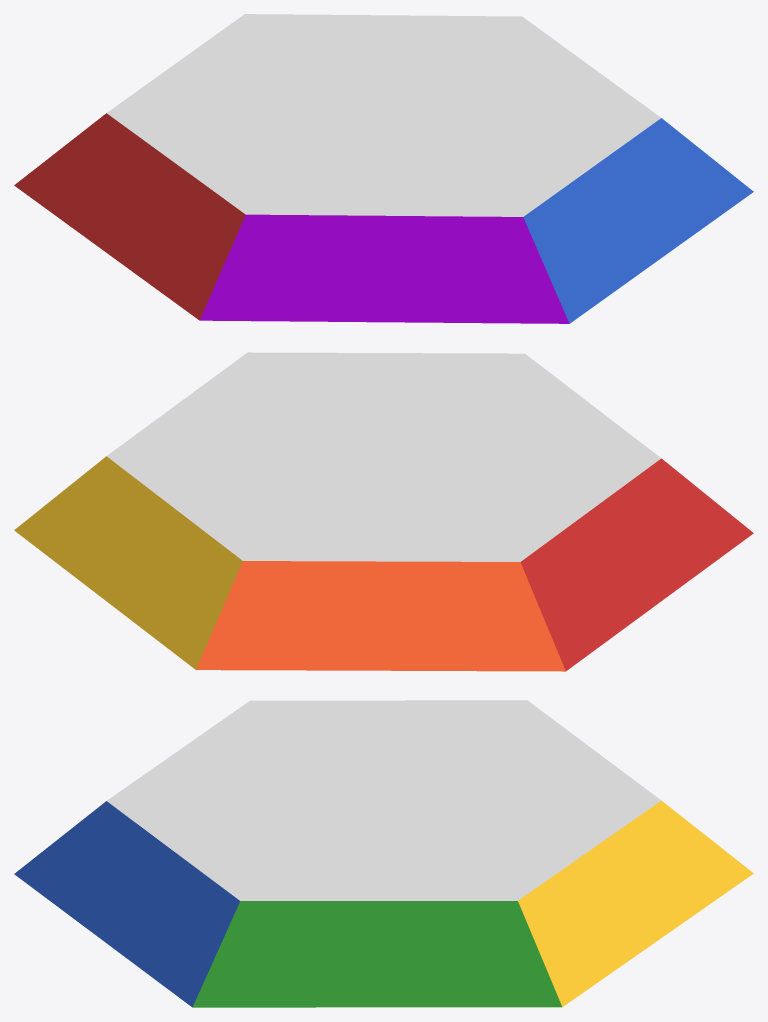
File: Hexx-PoseStand.dae
3 views of the same model, one above another, from view 1: azimuth 30°, elevation 25°; view 2: azimuth 150°, elevation 25°; view 3: azimuth 270°, elevation 25° (orthographic).
Parts seen in each view (by area): view 1: Hexagon; view 2: Hexagon; view 3: Hexagon.
Boxes of the visible parts, x1=… form: Hexagon: x1=14, y1=14, x2=753, y2=323; Hexagon: x1=14, y1=352, x2=753, y2=671; Hexagon: x1=14, y1=700, x2=753, y2=1007.
Size of the model in its own units: 0.9817 by 1.15 by 0.125.
